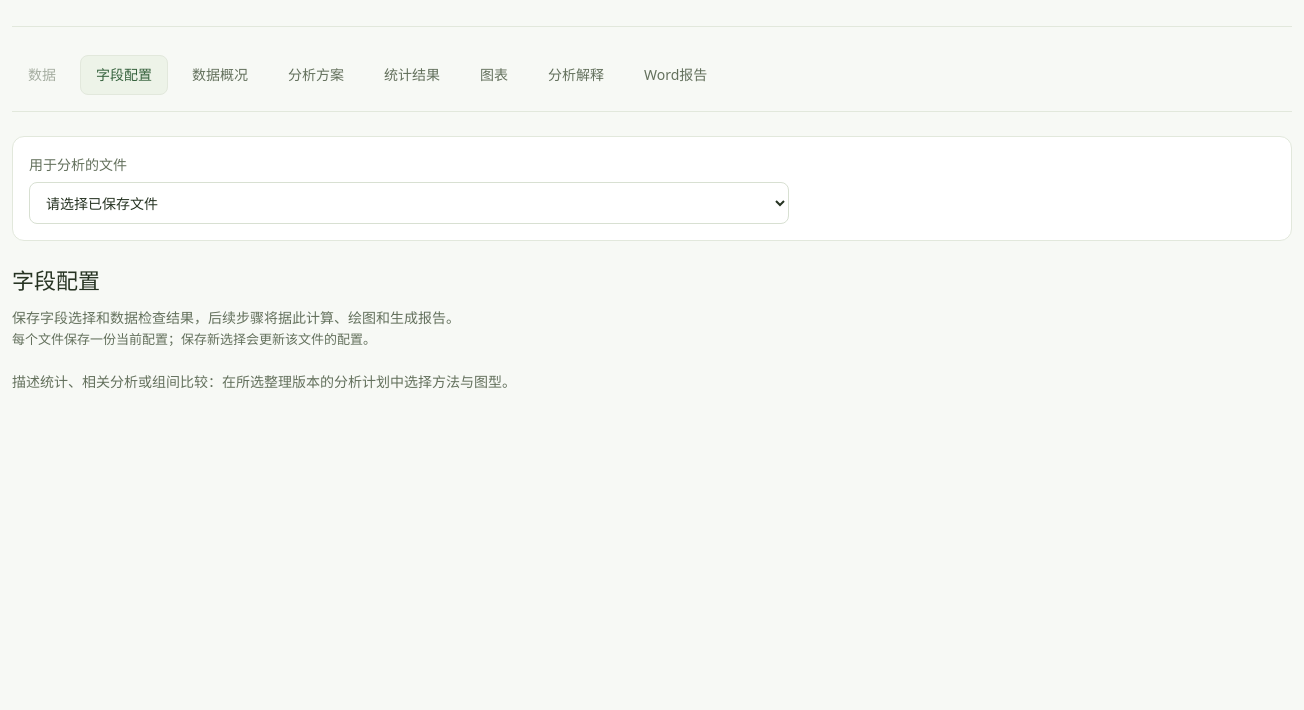
failed execution can read results before retrying
Step 1. Select "研究.xlsx · 2026/9/29 01:00:00" in the dropdown labelled "用于分析的文件" → (409, 203), box x1=29 y1=182 x2=789 y2=224
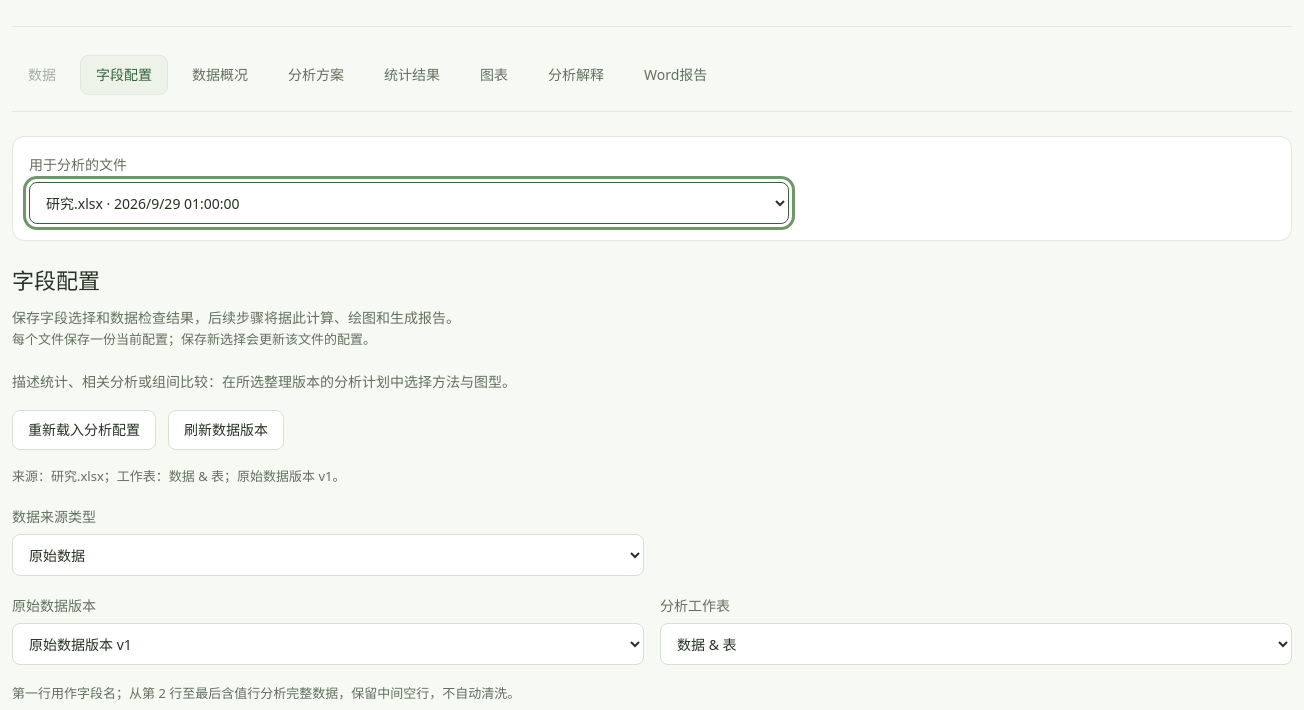
Step 2. Click the button "统计结果" → click(412, 75), box x1=368 y1=55 x2=456 y2=95
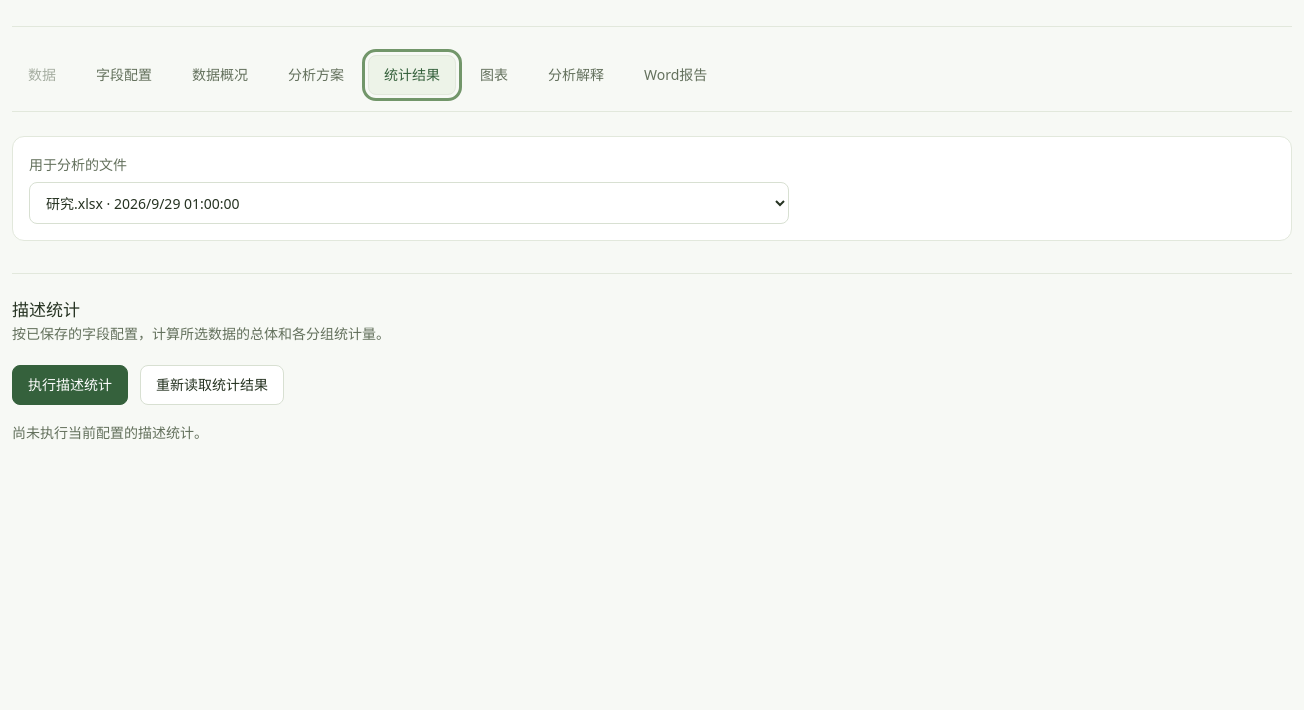
Step 3. Click the button "执行描述统计" → click(70, 385), box x1=12 y1=365 x2=128 y2=405
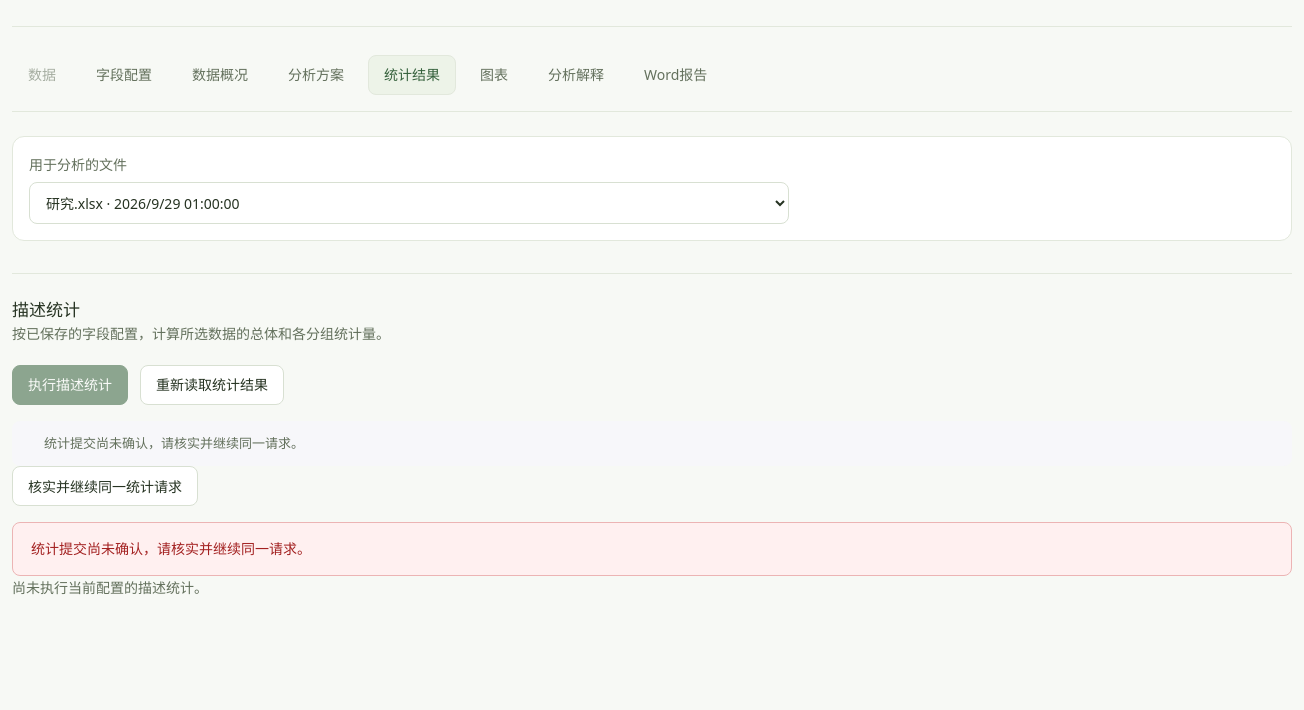
Expected: the text "结果已保存" is not shown
Now the message "统计提交尚未确认，请核实并继续同一请求。" is shown, box x1=12 y1=522 x2=1292 y2=576
Step 4. Click the button "重新读取统计结果" → click(212, 385), box x1=140 y1=365 x2=284 y2=405
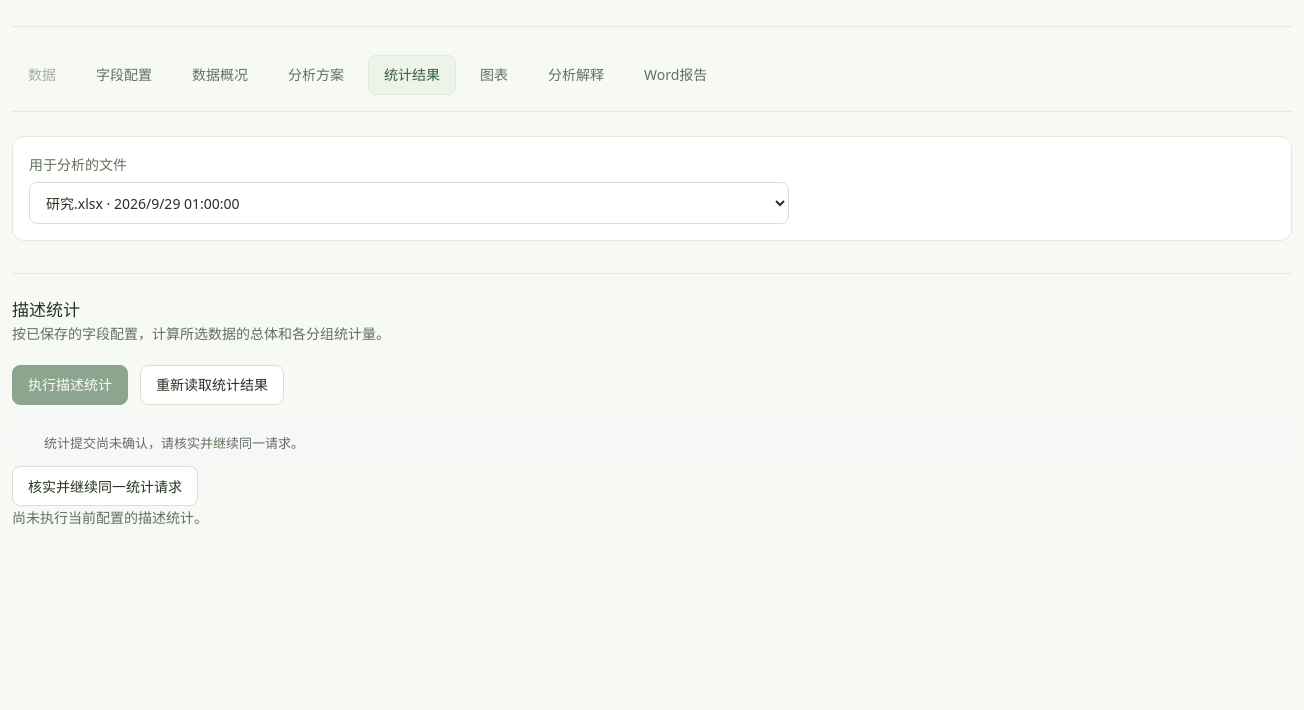
Now the text "尚未执行当前配置的描述统计。" is shown, box x1=12 y1=508 x2=208 y2=527
Step 5. Click the button "核实并继续同一统计请求" → click(105, 486), box x1=12 y1=466 x2=198 y2=506
(page scrolled)
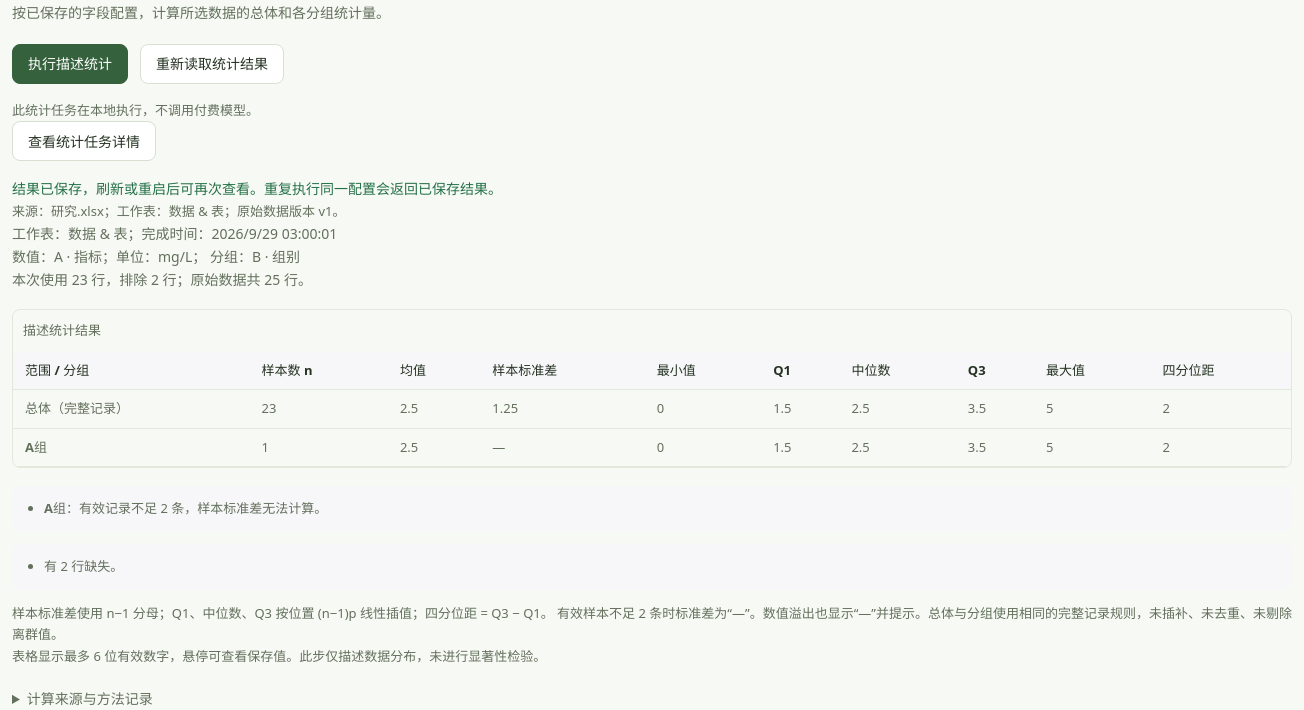
Now the table "描述统计结果" is shown, box x1=13 y1=310 x2=1291 y2=467
